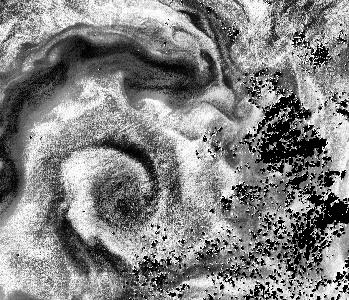AE: (32, 79, 220, 265)
